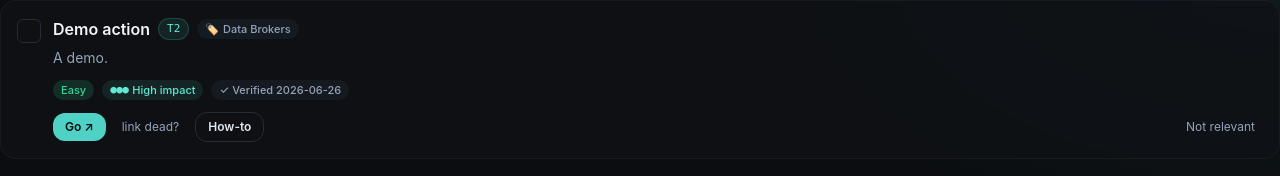
ActionCard › toggles done state and persists it
Click the button named "Mark \"Demo action\" done" at (29, 31), box [17,19,41,43]
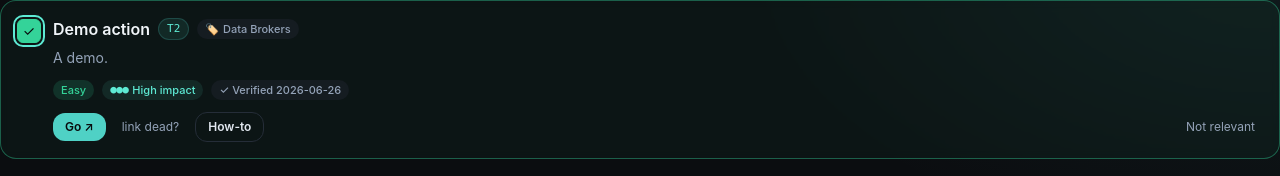
Now the button named "not done" is shown, box [17,19,41,43]
